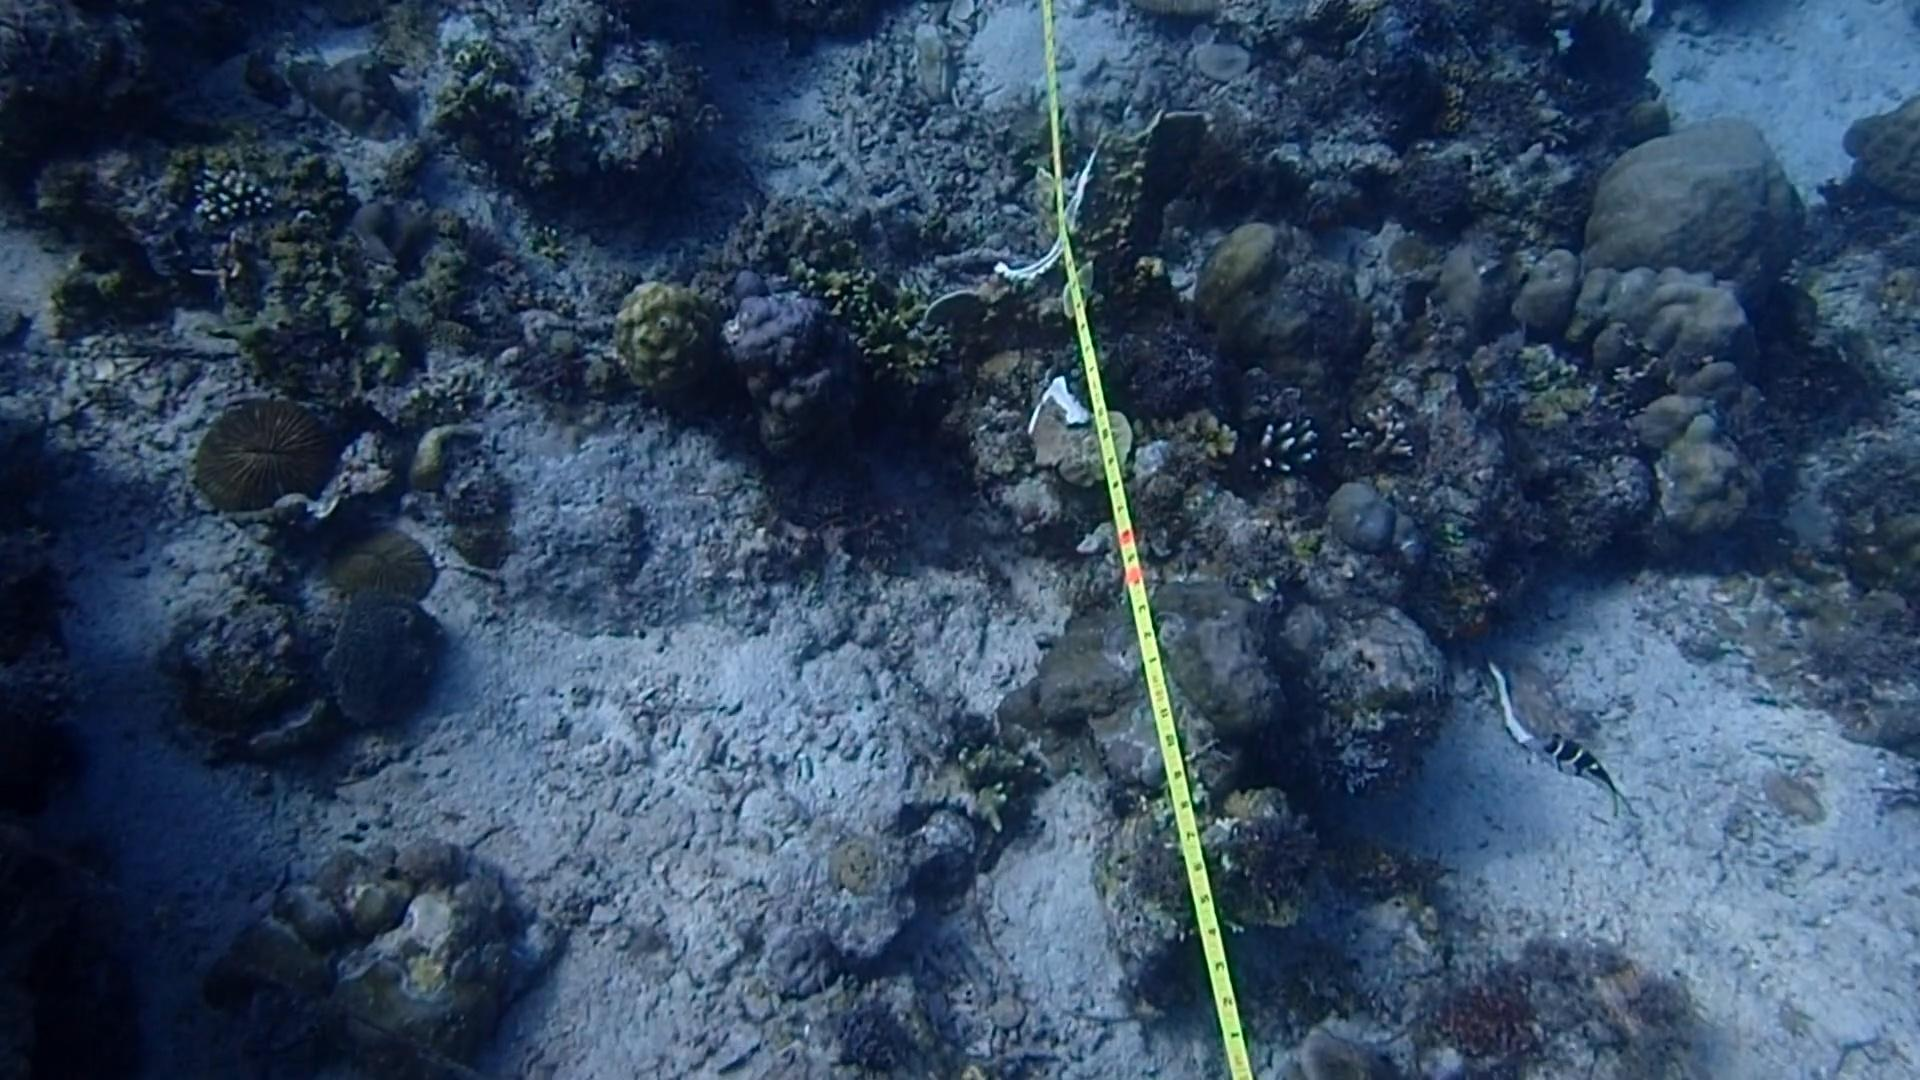Striped Fish: (1535, 717, 1631, 818)
